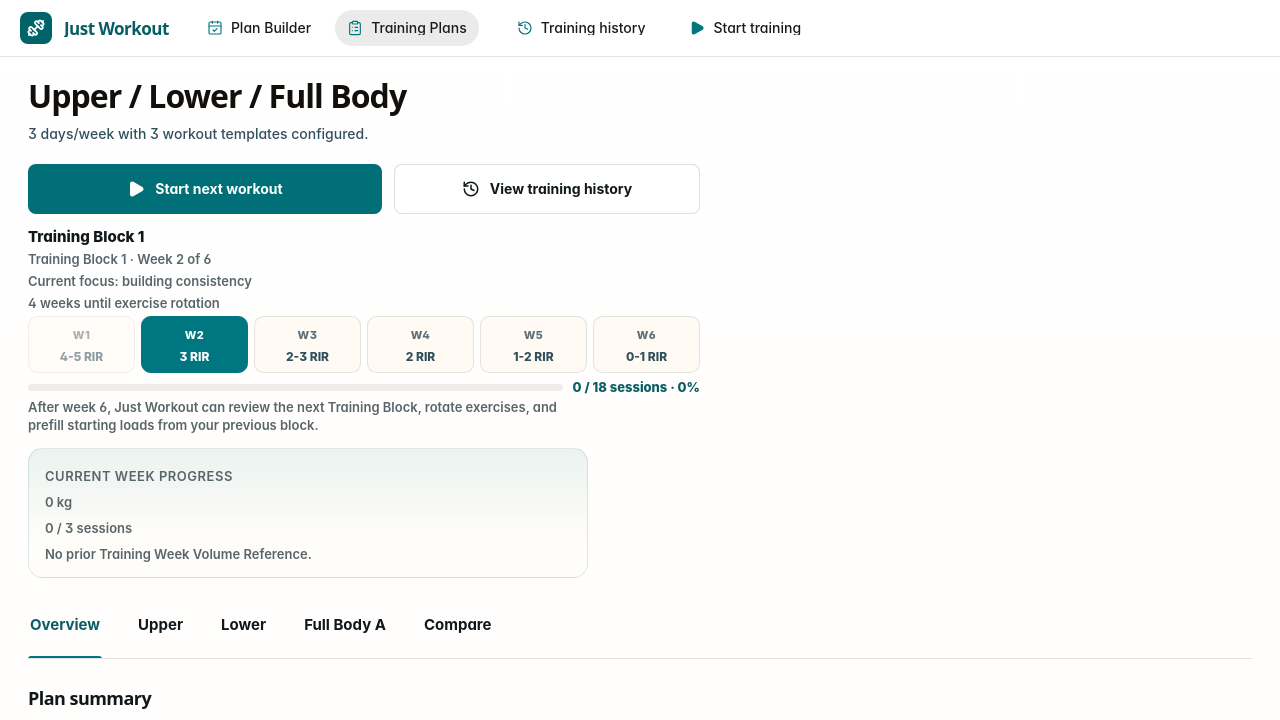
Test: TrainingPlanRoute › shows all three Upper / Lower / Full Body workouts in Overview and Compare
The image size is (1280, 720).
Expected: the heading "Upper / Lower / Full Body" is shown, [28,74,406,117]
Click the tab "Compare": {"x": 458, "y": 632} [422,606,494,658]
(page scrolled)
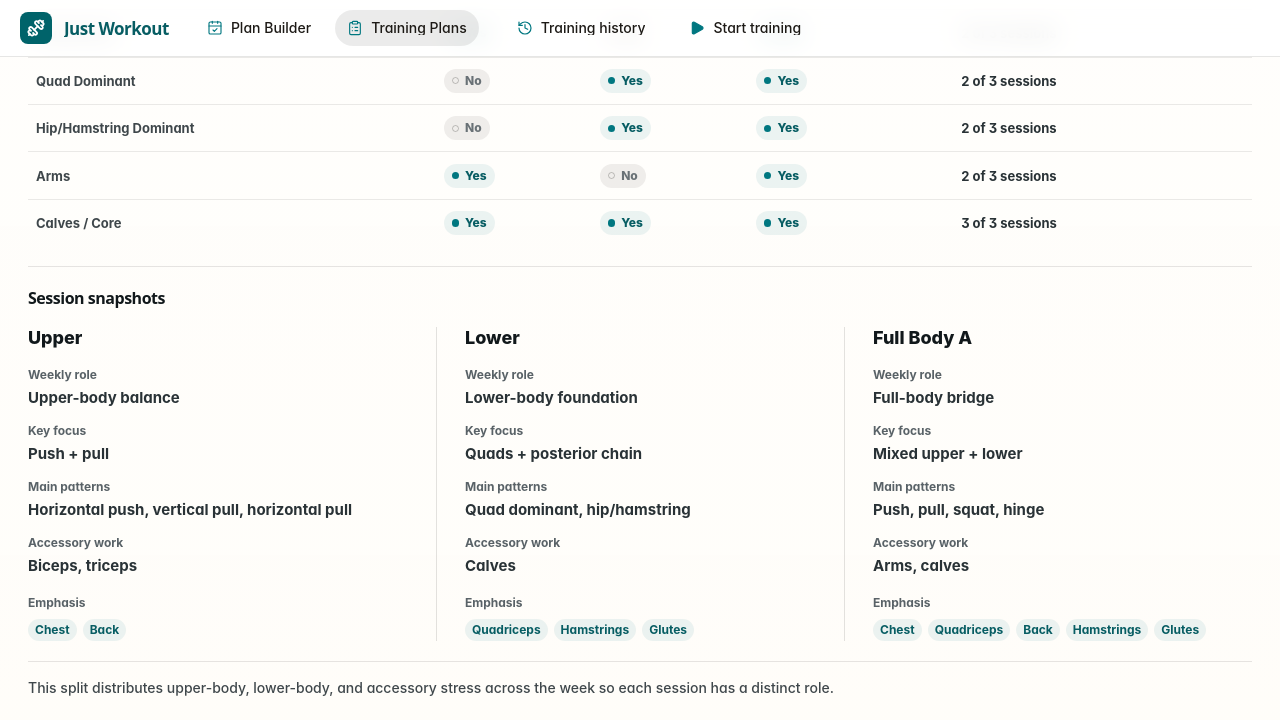
Expected: the row "Quad Dominant No Yes Yes 2 of 3 sessions" is shown, [28,57,1252,105]
Expected: the element "Session snapshots" is shown, [28,266,1252,700]
Expected: the text "Weekly role" is shown 3 times, [28,367,97,382]; [465,367,534,382]; [873,367,942,382]
